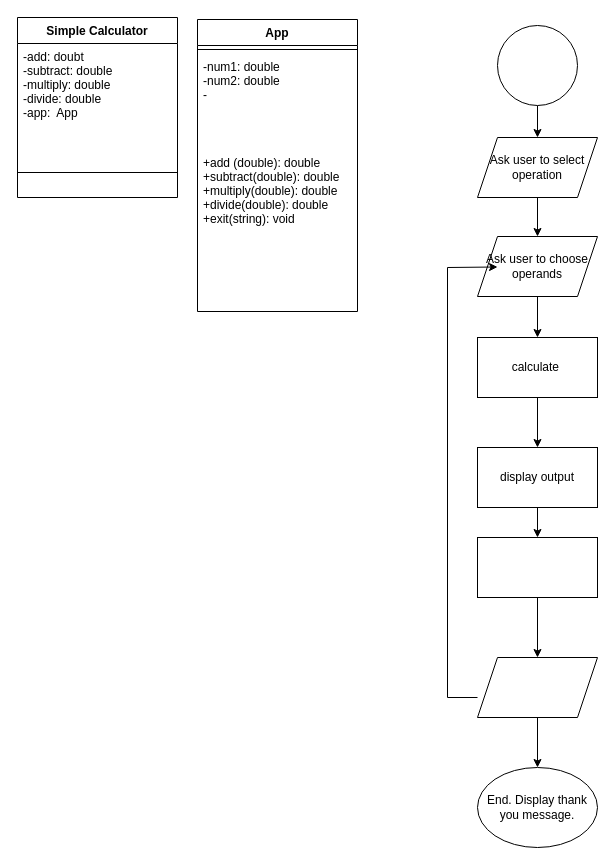
This 615x865 diagram has some shape labels left out. The centre of each missing label's shape, as x and y in pixels:
Ask user if they want to continue/exit: point 537,687
Display choices: point 537,567
Start: point 537,65
